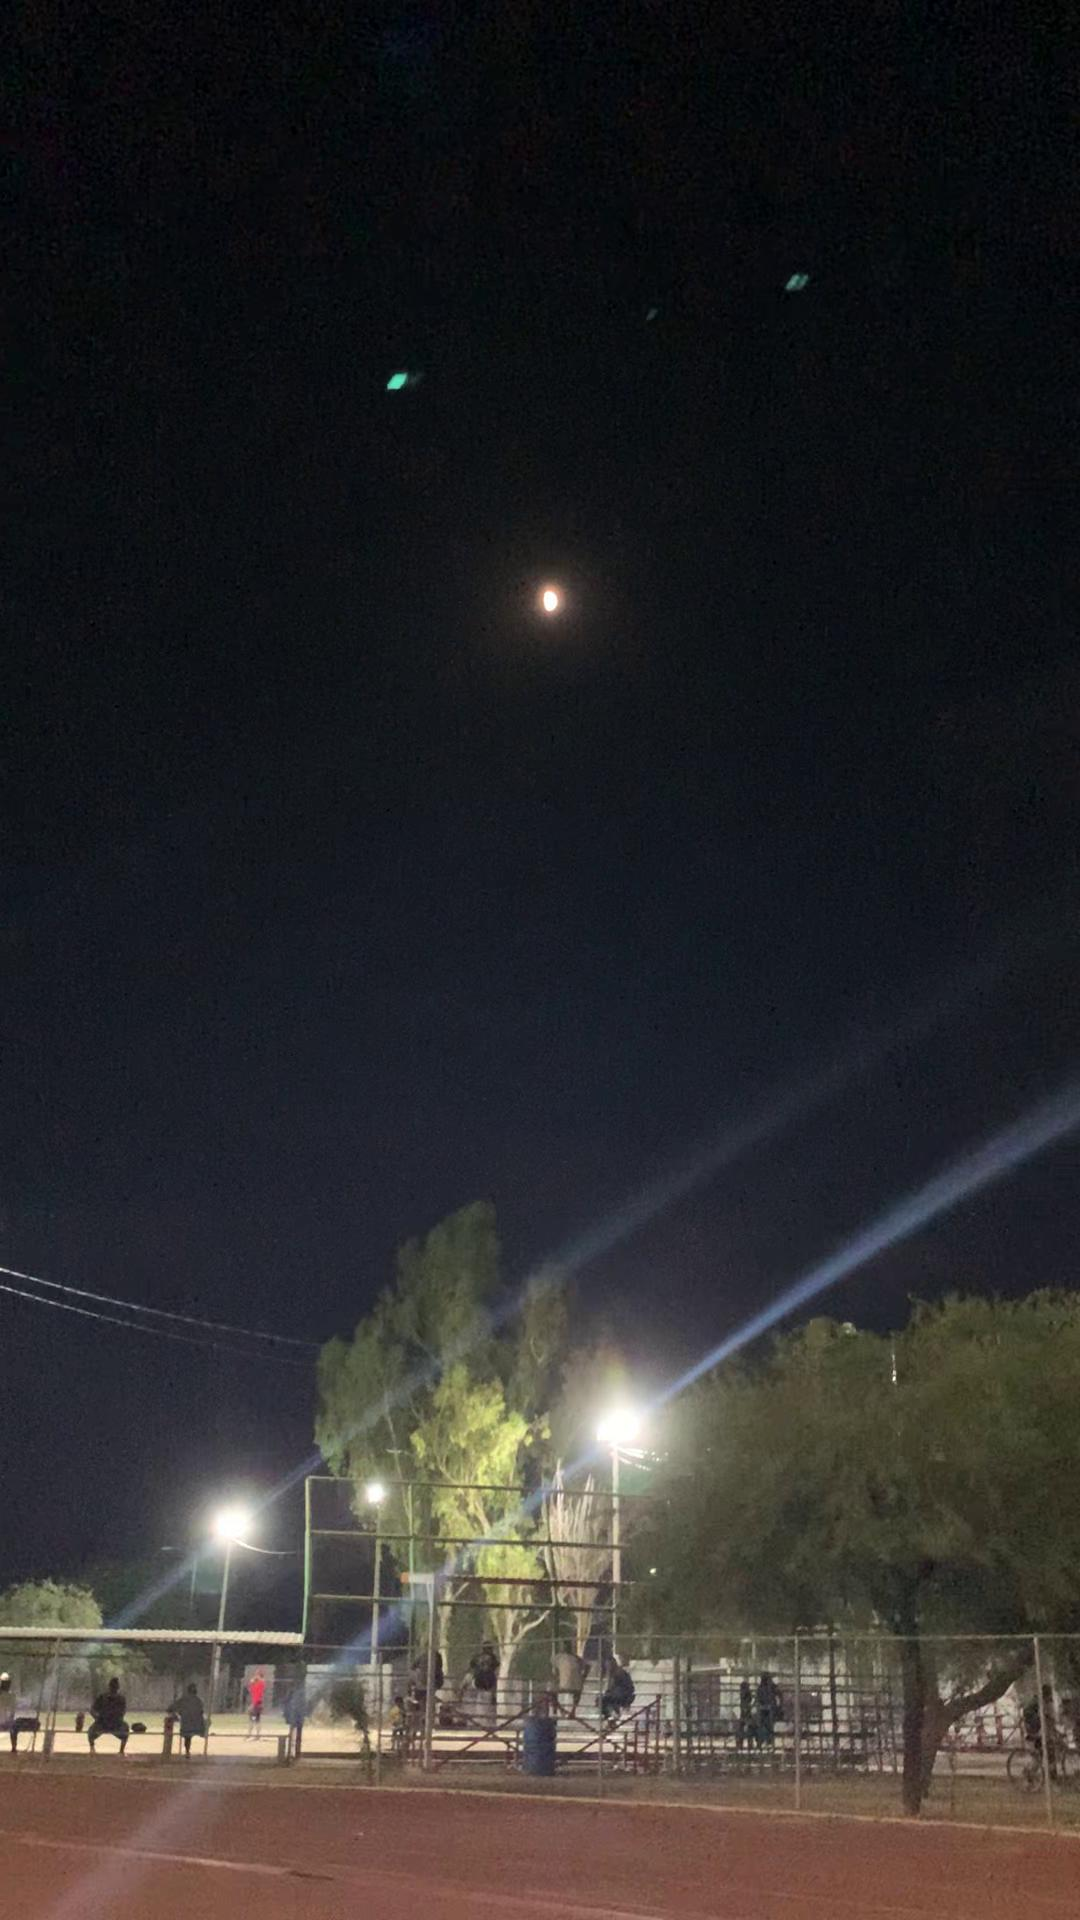moon: (517, 574, 587, 640)
